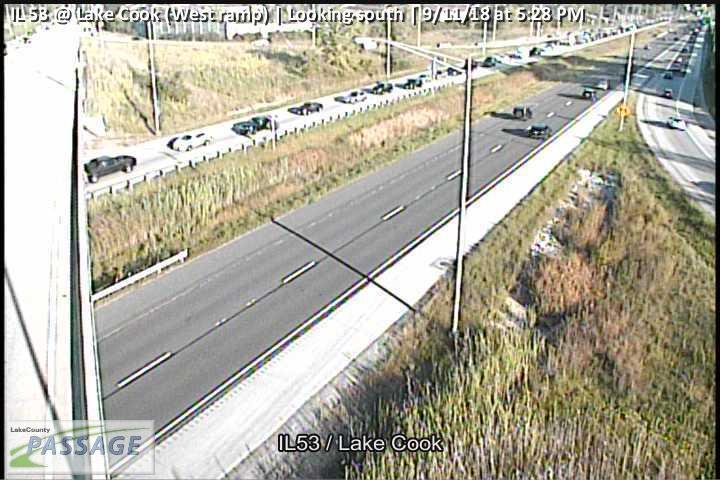SUV: (527, 122, 553, 140), (341, 89, 368, 104), (667, 117, 687, 131), (513, 108, 533, 121)
Sedan: (83, 153, 136, 182), (231, 116, 279, 136), (172, 131, 214, 152), (296, 103, 324, 116)
